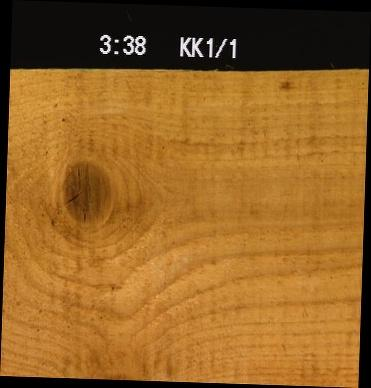sound_knot: (58, 158, 113, 225)
